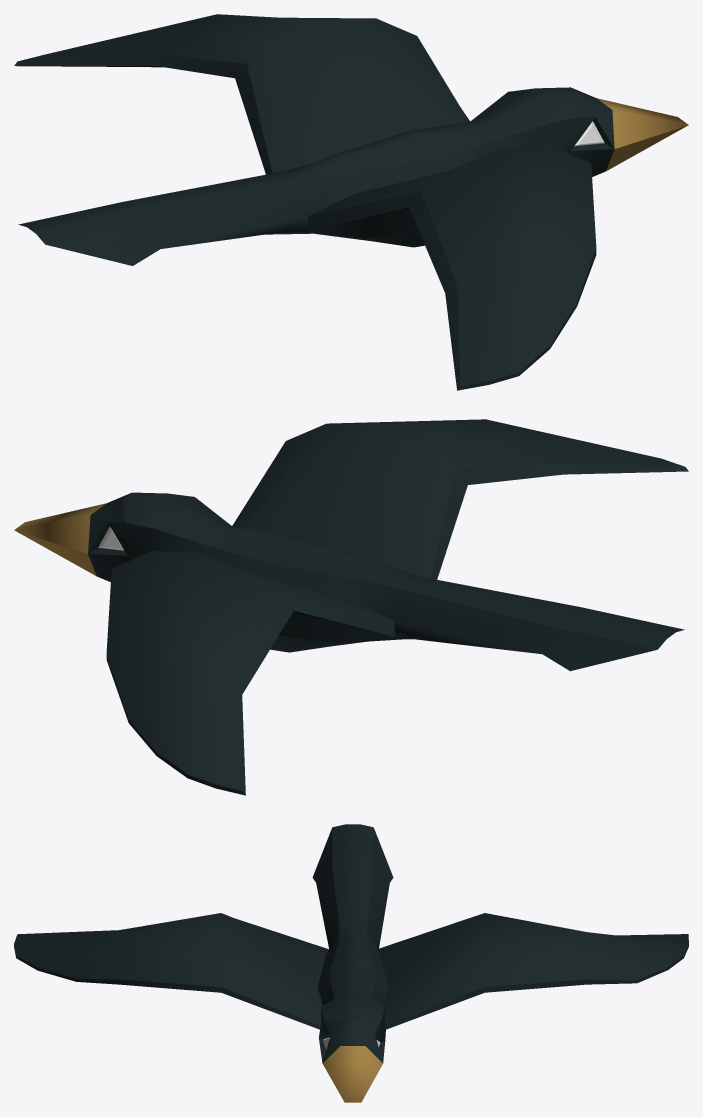
File: bird.fbx
3 views of the same model, one above another, from view 1: azimuth 30°, elevation 25°; view 2: azimuth 150°, elevation 25°; view 3: azimuth 270°, elevation 25° (orthographic). The views are drawn at different scales.
Visible parts, largest first — view 1: pCube1; view 2: pCube1; view 3: pCube1.
Boxes of the visible parts, x1,y1,x2,y2 form: pCube1: [14, 14, 688, 390]; pCube1: [14, 419, 688, 795]; pCube1: [14, 824, 688, 1102].
Size of the model in its own units: 21.5 by 5.1 by 25.45.
